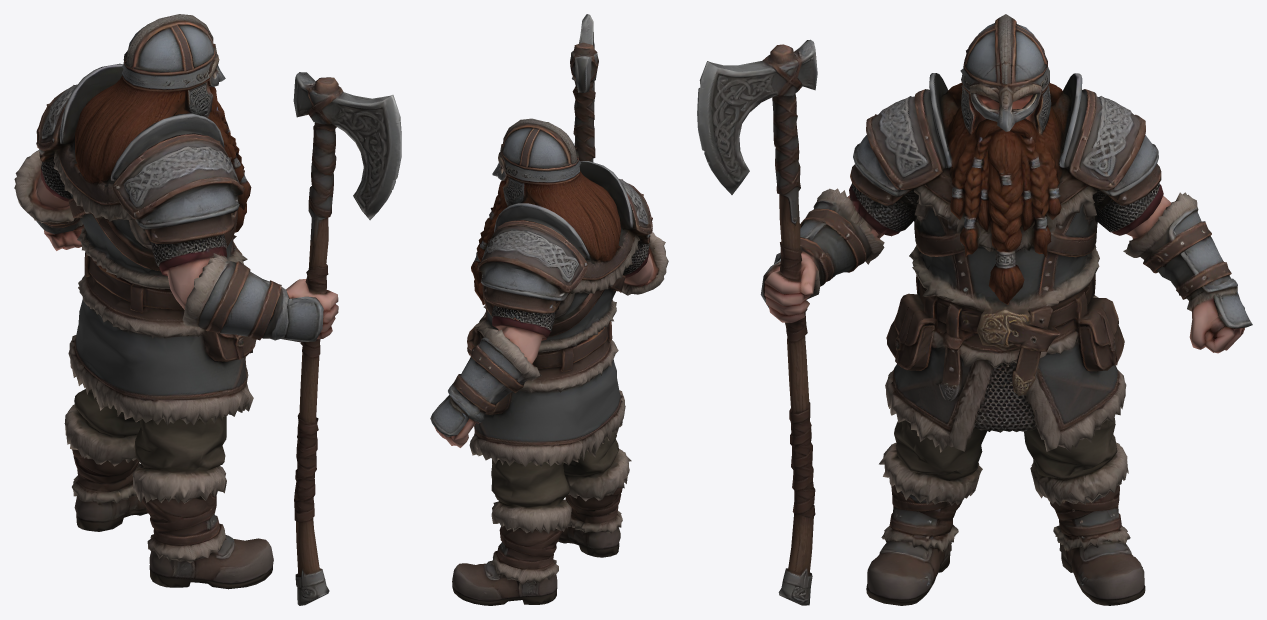
File: h31front-1.glb
The picture shows the model from 3 angles, left to right: view 1: azimuth 30°, elevation 25°; view 2: azimuth 150°, elevation 25°; view 3: azimuth 270°, elevation 25°; orthographic projection. The views are drawn at different scales.
Parts seen in each view (by area): view 1: tripo_node_0a5f29b8-f06a-40e0-b4d8-fa4a891be113; view 2: tripo_node_0a5f29b8-f06a-40e0-b4d8-fa4a891be113; view 3: tripo_node_0a5f29b8-f06a-40e0-b4d8-fa4a891be113.
Boxes of the visible parts, left/top/right/bottom form: tripo_node_0a5f29b8-f06a-40e0-b4d8-fa4a891be113: left=14, top=14, right=401, bottom=605; tripo_node_0a5f29b8-f06a-40e0-b4d8-fa4a891be113: left=430, top=14, right=668, bottom=605; tripo_node_0a5f29b8-f06a-40e0-b4d8-fa4a891be113: left=697, top=14, right=1252, bottom=605.
Size of the model in its own units: 0.3455 by 1 by 0.8892.
Materials: 1 (1 with a texture image).
